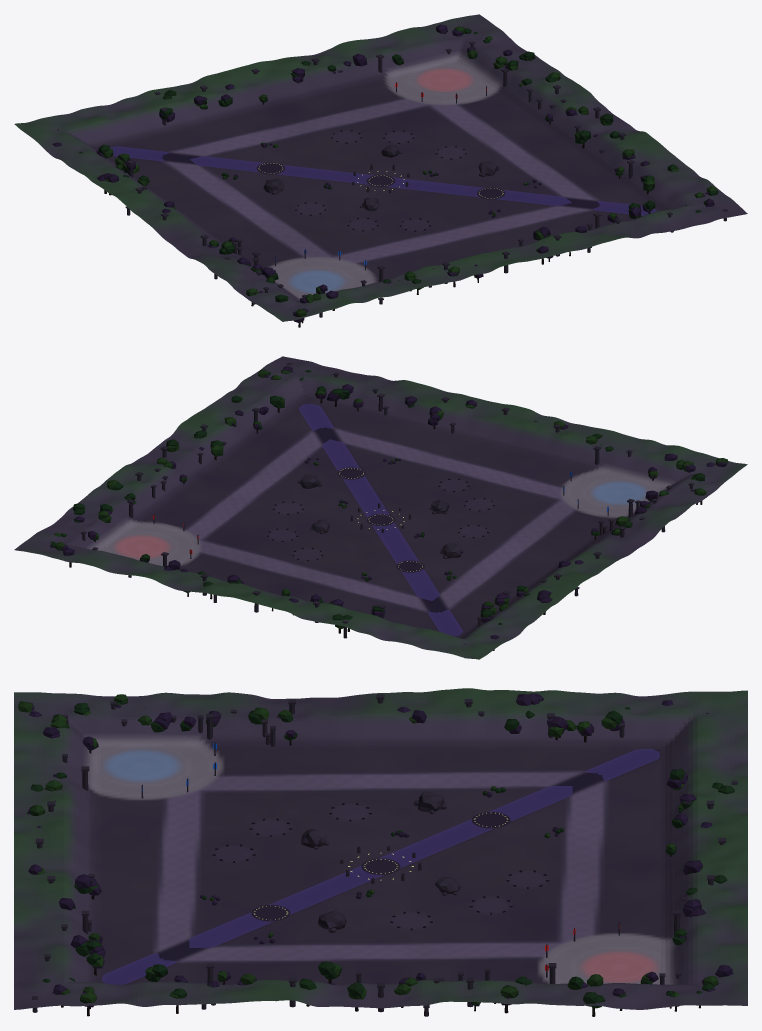
File: map_ruinas_eclipse.glb
3 renders of one model, top to bottom at view 1: azimuth 30°, elevation 25°; view 2: azimuth 150°, elevation 25°; view 3: azimuth 270°, elevation 25°, orthographic. The views are drawn at different scales.
Parts seen in each view (by area): view 1: ruinas_eclipse_terreno, ruinas_eclipse_decorado, ruinas_eclipse_agua; view 2: ruinas_eclipse_terreno, ruinas_eclipse_decorado, ruinas_eclipse_agua; view 3: ruinas_eclipse_terreno, ruinas_eclipse_decorado, ruinas_eclipse_agua.
Part boxes in pixels (box(x1,y1,x2,y2)): ruinas_eclipse_terreno: box(14, 14, 747, 321); ruinas_eclipse_decorado: box(52, 24, 728, 327); ruinas_eclipse_agua: box(110, 146, 656, 215); ruinas_eclipse_terreno: box(14, 356, 747, 659); ruinas_eclipse_decorado: box(50, 362, 727, 658); ruinas_eclipse_agua: box(298, 403, 463, 636); ruinas_eclipse_terreno: box(14, 688, 747, 1009); ruinas_eclipse_decorado: box(18, 693, 737, 1016); ruinas_eclipse_agua: box(102, 749, 659, 984).
Size of the model in its own units: 120 by 6.28 by 120.
